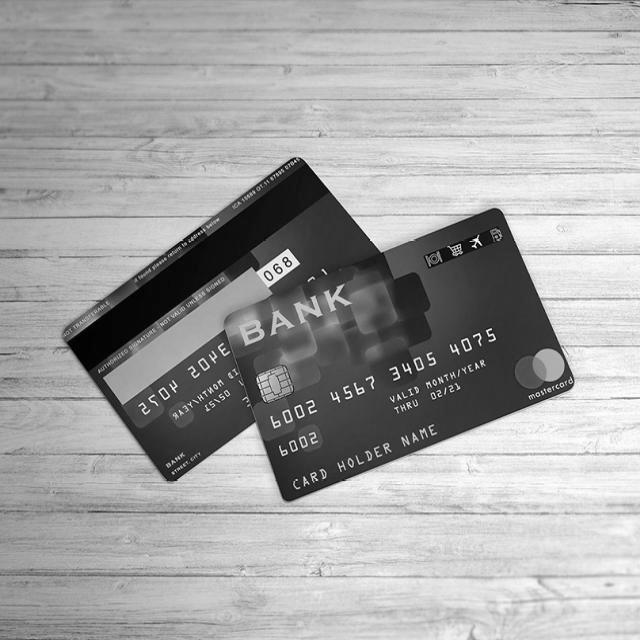card: (223, 205, 576, 504), (63, 156, 382, 478)
